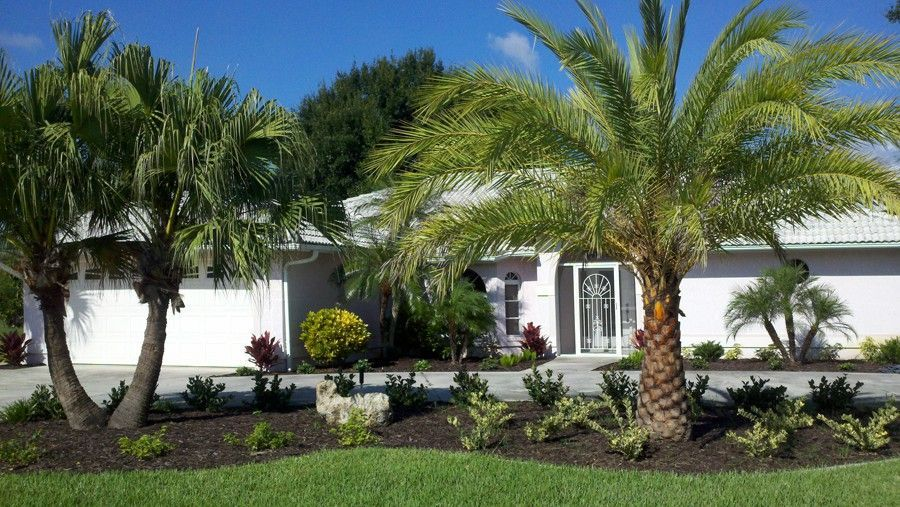tree: (380, 28, 897, 421), (1, 18, 297, 431)
